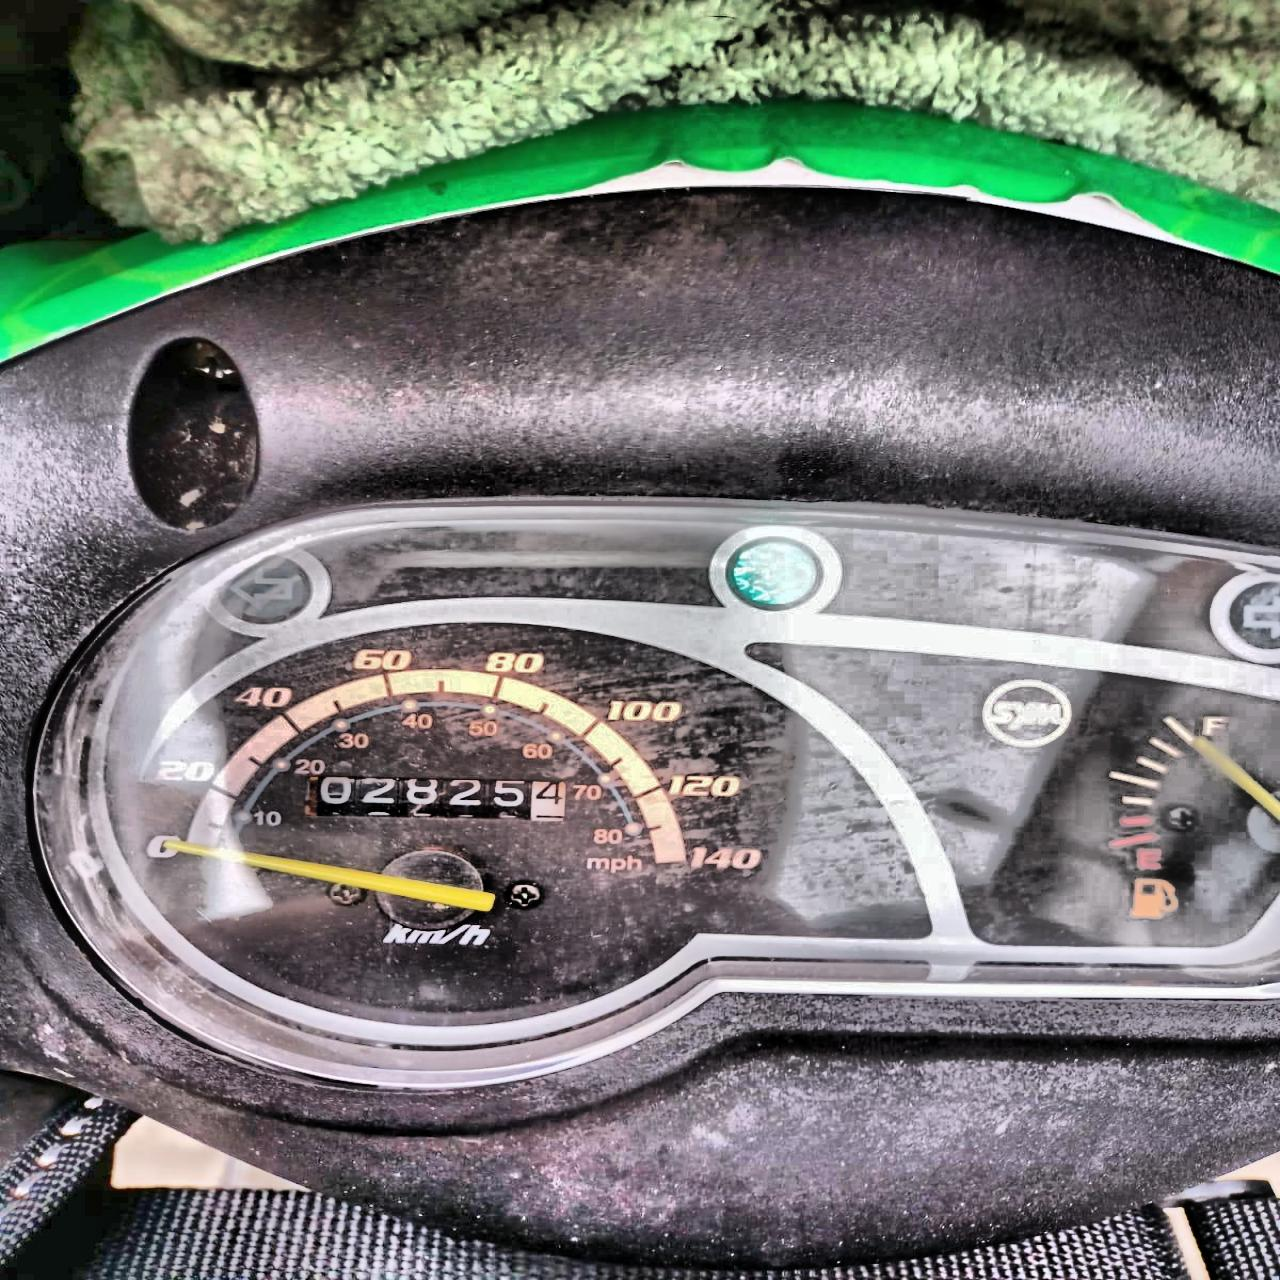0: (316, 775, 350, 808)
2: (359, 776, 395, 805), (445, 779, 484, 806)
4: (536, 779, 565, 809)
5: (493, 778, 525, 809)
8: (404, 776, 442, 808)
odometer: (300, 775, 571, 825)
